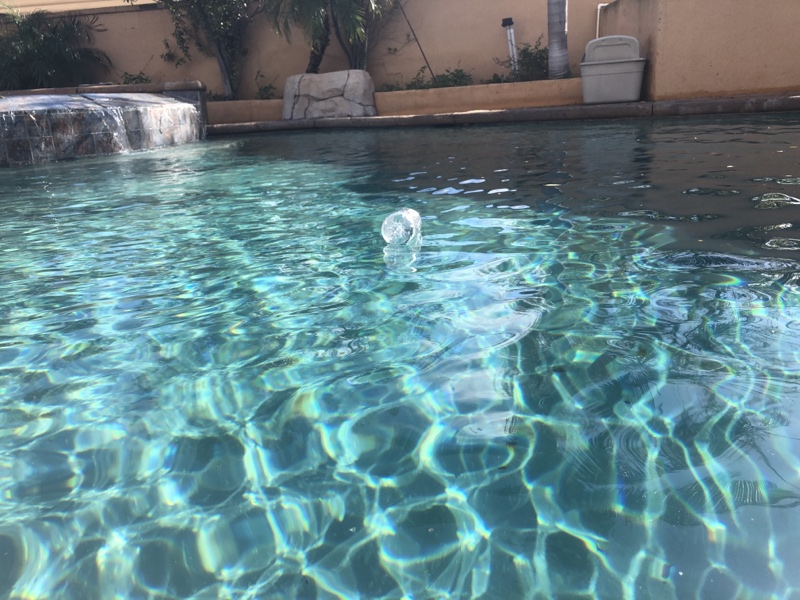Plastic Bottle: (378, 207, 426, 250)
